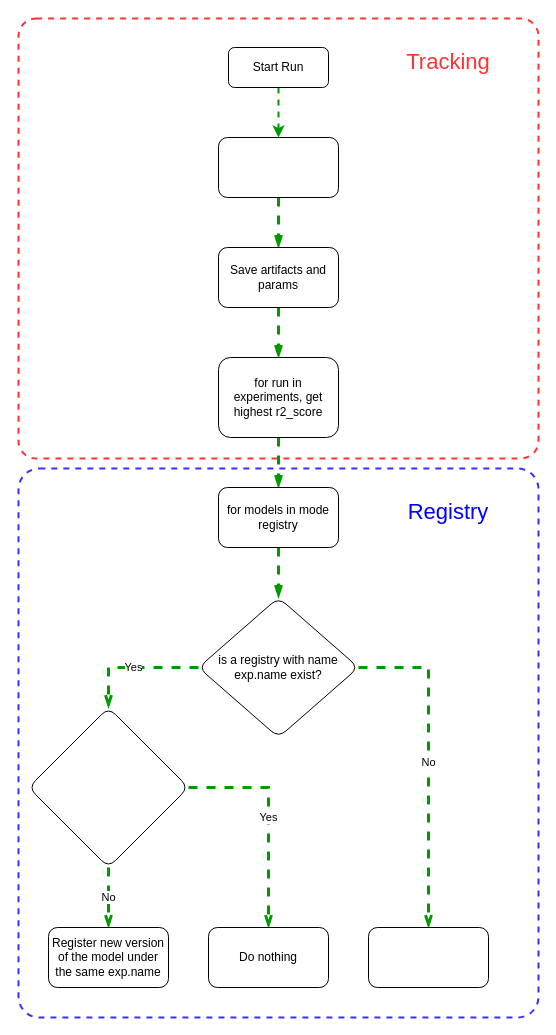
Image size: 556x1035. Some labels were removed from this diagram. Here are the shapes that lost their labels. From the top down, the centre of each, then its label:
At point (278, 167): "Create experiment with name = model_class.name".
At point (108, 787): "Is the latest registered version parameter higher than the top run?".
At point (428, 957): "create a registry named exp.name and register higher run".
